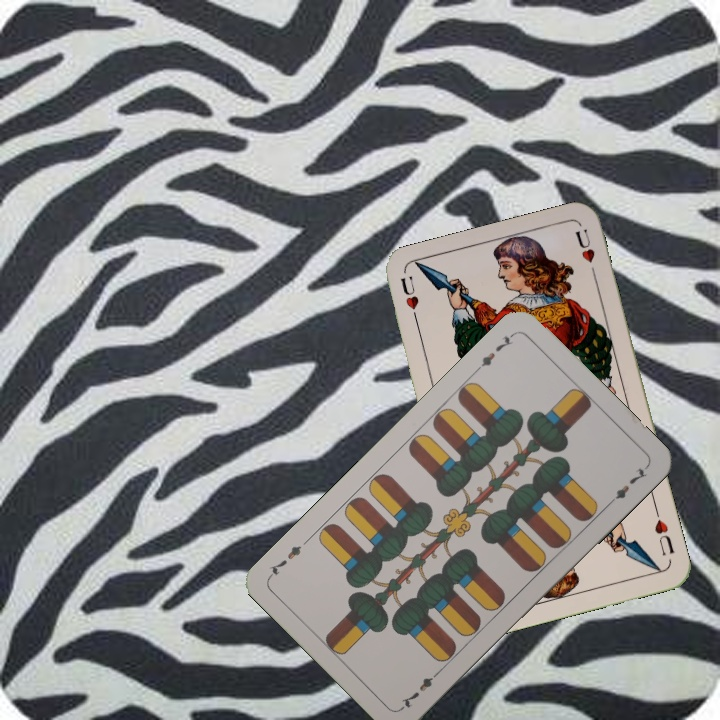E7: (397, 666, 444, 712), (471, 329, 517, 375)
HU: (396, 272, 422, 330), (650, 505, 677, 559)
